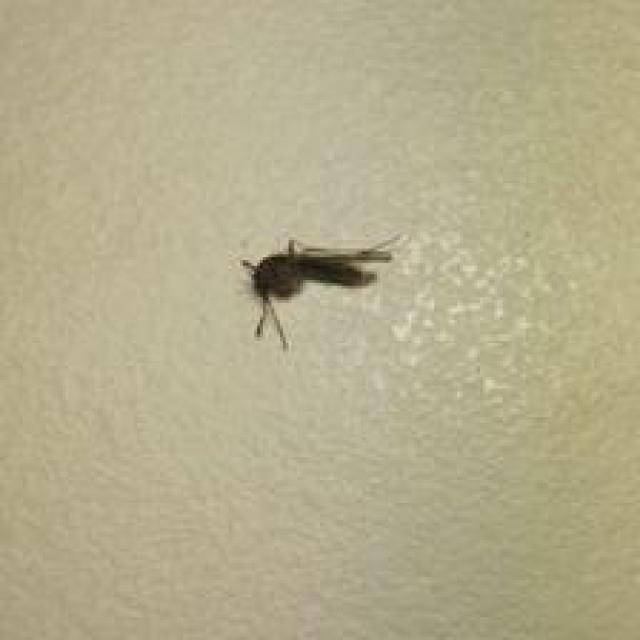Culex: (239, 230, 404, 350)
